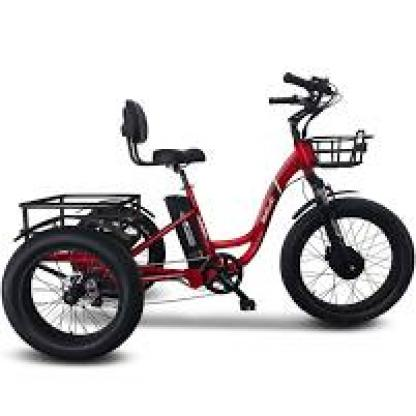Bike: (2, 62, 416, 358)
